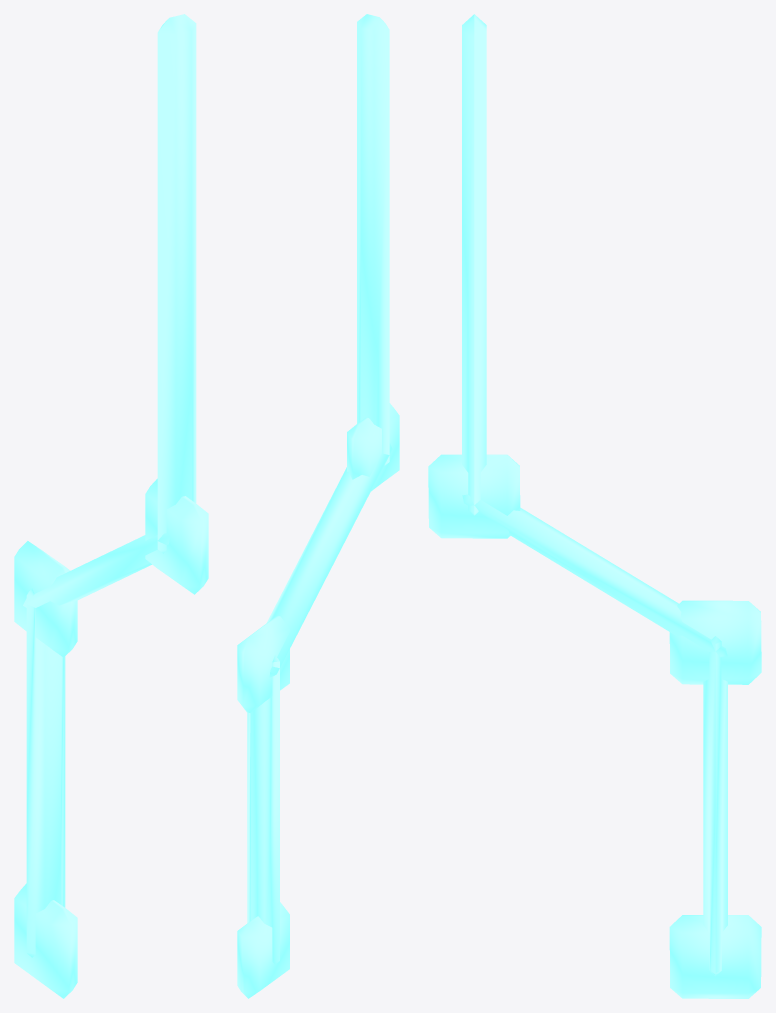
File: Estela_PiernaDer_Neon.fbx
The picture shows the model from 3 angles, left to right: view 1: azimuth 30°, elevation 25°; view 2: azimuth 150°, elevation 25°; view 3: azimuth 270°, elevation 25°; orthographic projection. The views are drawn at different scales.
Visible parts, largest first — view 1: Estela_PiernaDer_Neon; view 2: Estela_PiernaDer_Neon; view 3: Estela_PiernaDer_Neon.
Boxes of the visible parts, x1,y1,x2,y2 form: Estela_PiernaDer_Neon: (14,14,208,998); Estela_PiernaDer_Neon: (237,14,399,998); Estela_PiernaDer_Neon: (428,14,761,998).
Bounding box in the file's own units: 0.05 × 1.31 × 0.4034.
